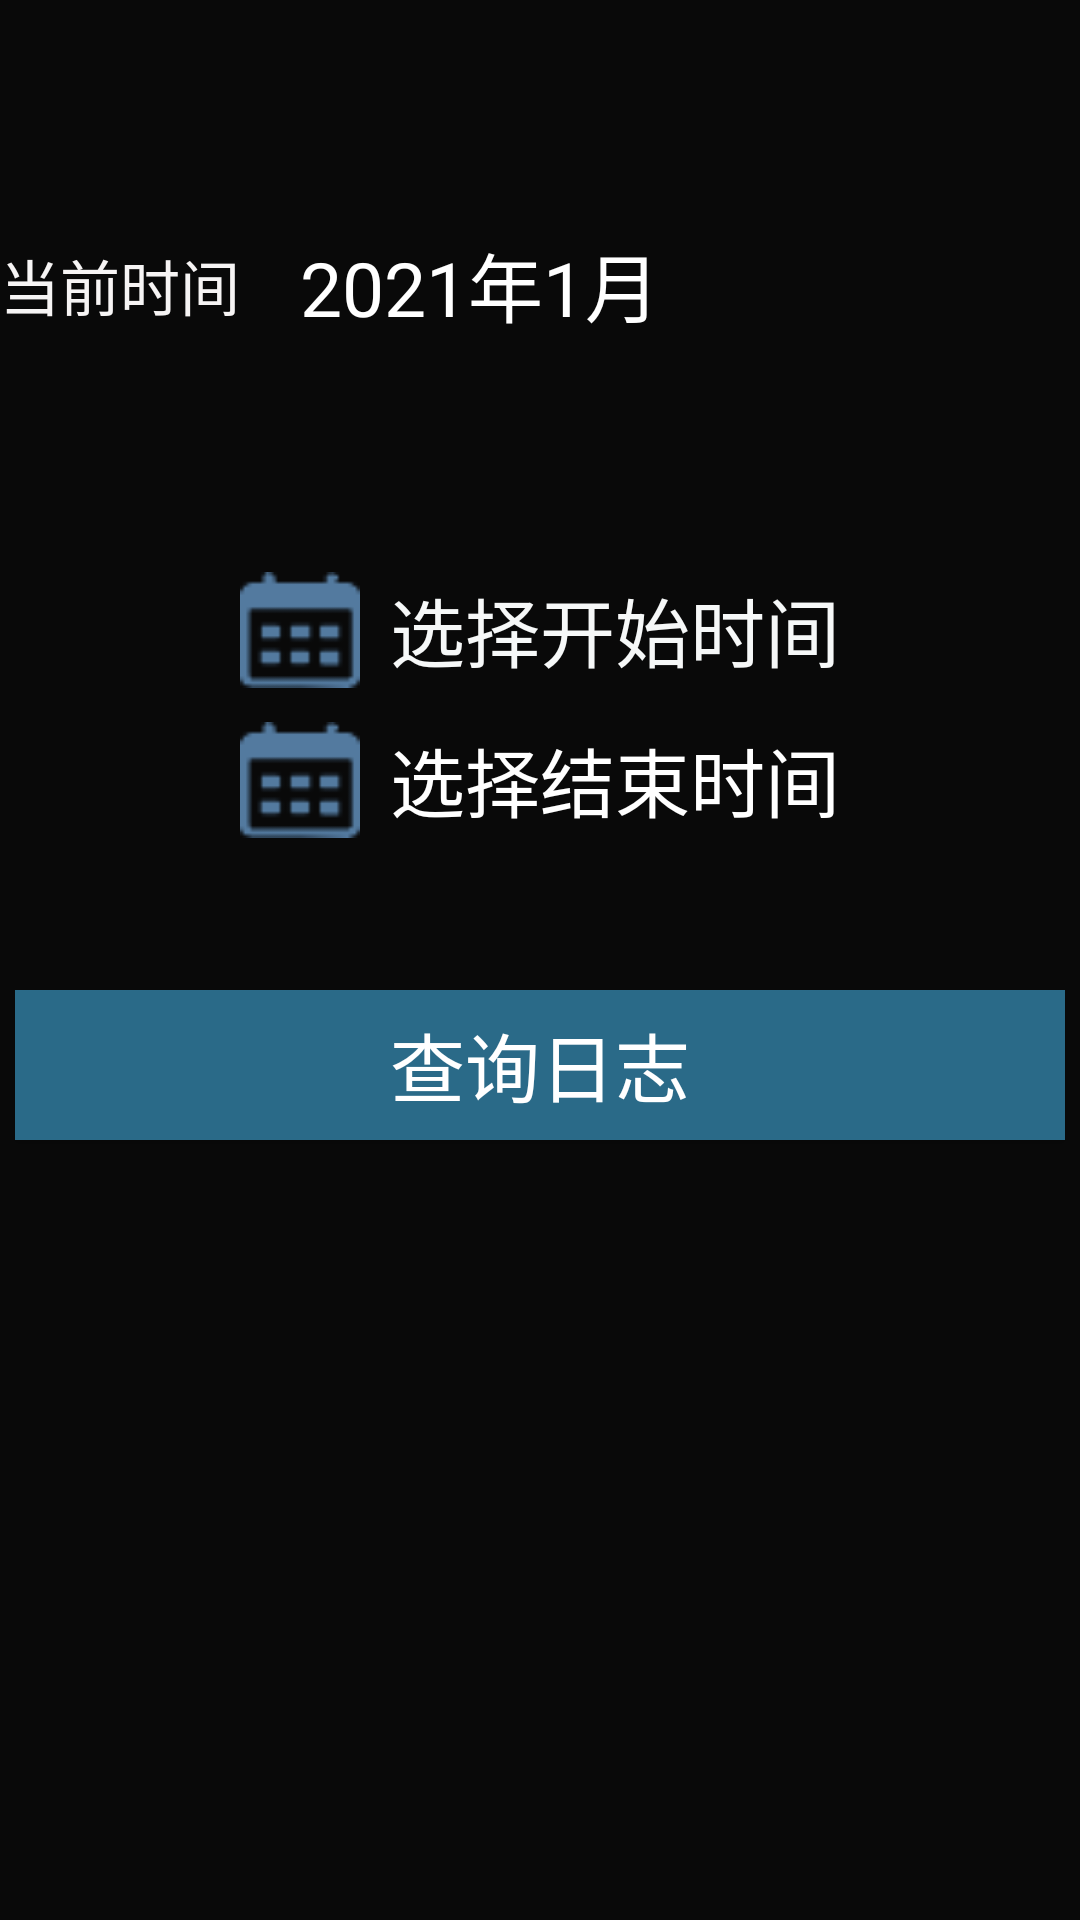

Screen size 1080×1920. Icon name, then its box in pixels as (x1, y1, x2, y2):
time: (240, 572, 360, 688), (240, 722, 360, 838)
